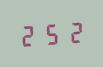five: (41, 20, 62, 46)
two: (18, 22, 39, 47), (63, 19, 84, 44)
